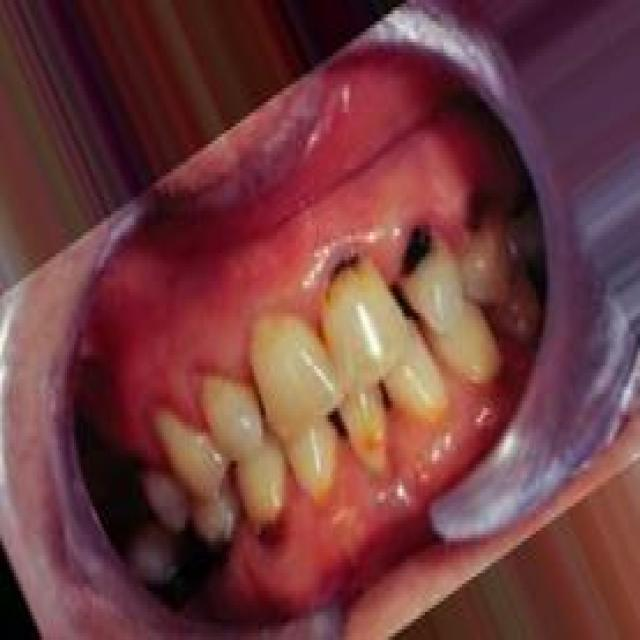caries: (391, 210, 441, 283), (314, 236, 366, 302), (455, 175, 497, 249), (356, 409, 393, 479), (250, 503, 293, 561)
